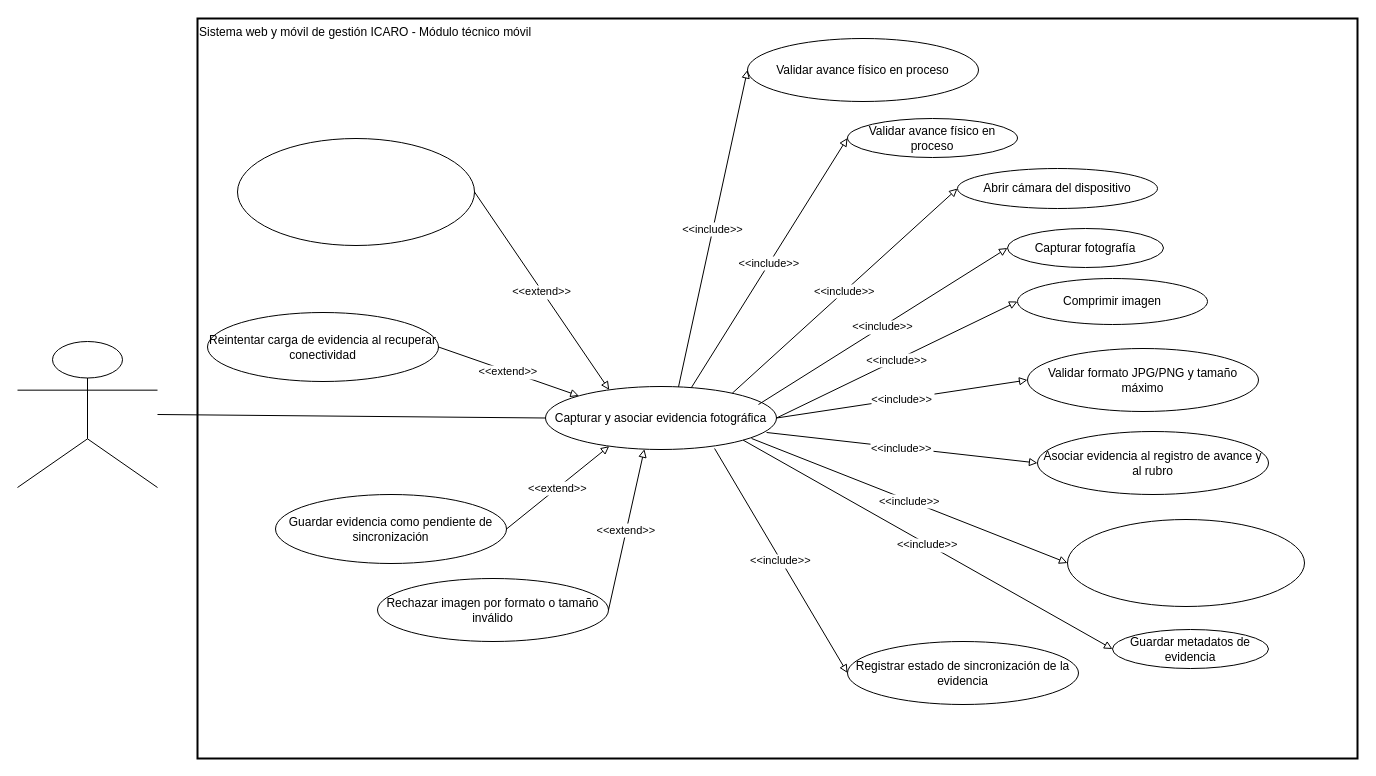
Image size: 1376x776. Some labels were removed from this diagram. Here are the shapes that lost their labels. From the top down, the box of each, then its label:
(236, 138, 474, 246): Inhabilitar guardado por falta de evidencia fotográfica
(16, 340, 158, 488): Residente
(1066, 518, 1304, 606): Almacenar evidencia fotográfica mediante StorageService
